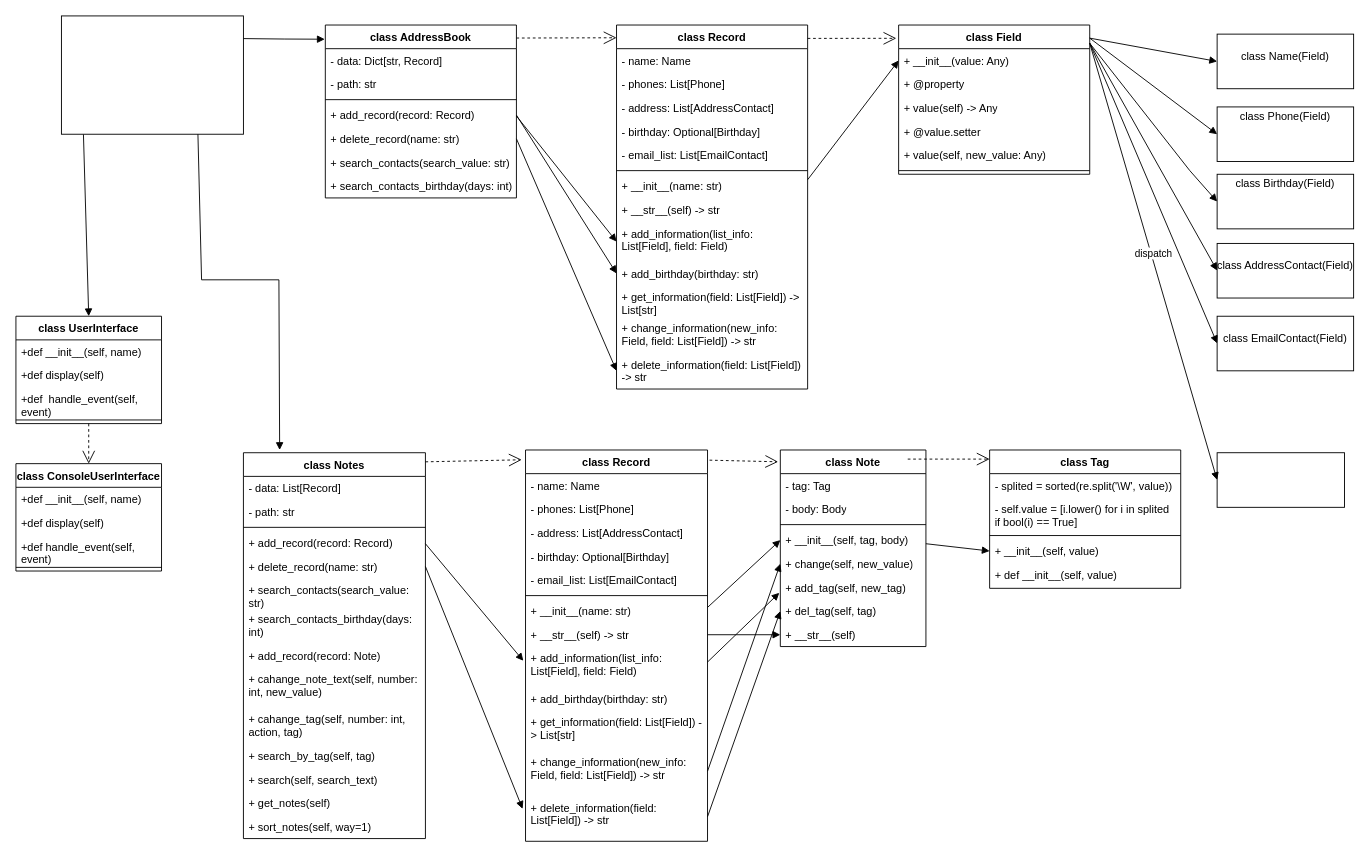
Some shapes in this 1370 by 860 pixel diagram are drawn without their labels. Here are the shapes that lost their labels. From the top down, the centre of each, then its label:
At point 152,74: "classDiagram".
At point 1280,479: "class Body".
